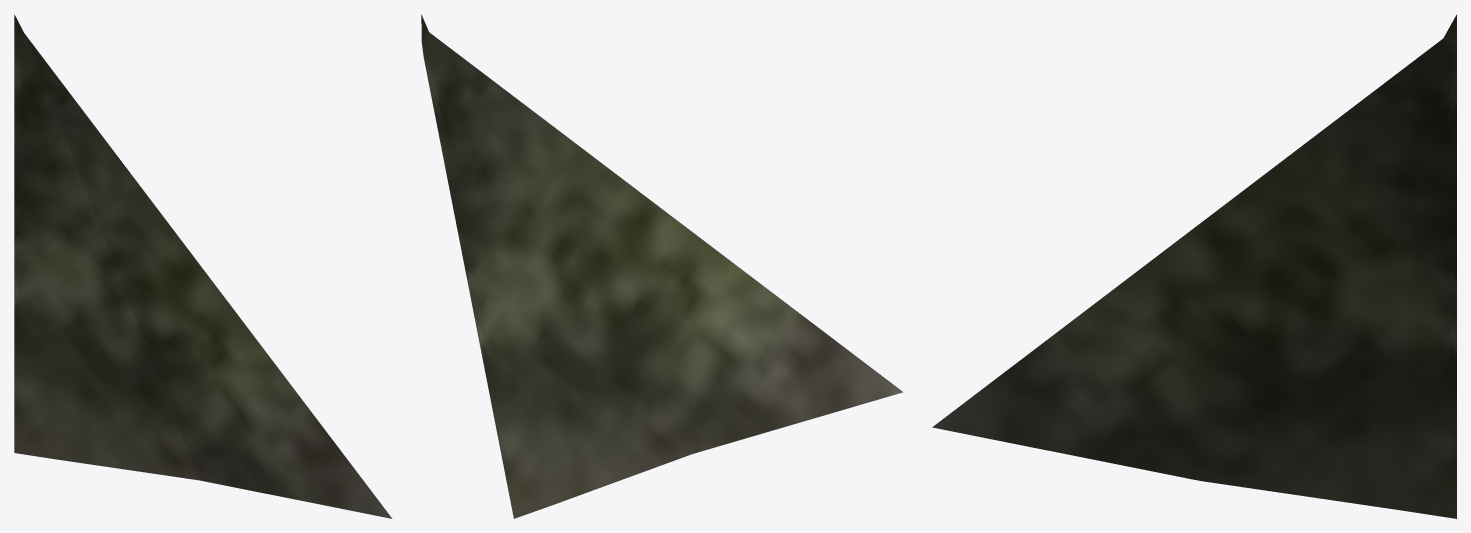
The picture shows the model from 3 angles, left to right: view 1: azimuth 90°, elevation 25°; view 2: azimuth 150°, elevation 25°; view 3: azimuth 270°, elevation 25°; orthographic projection. The views are drawn at different scales.
Size of the model in its own units: 1.25 by 2.26 by 1.93.
1 material, 1 textured.
